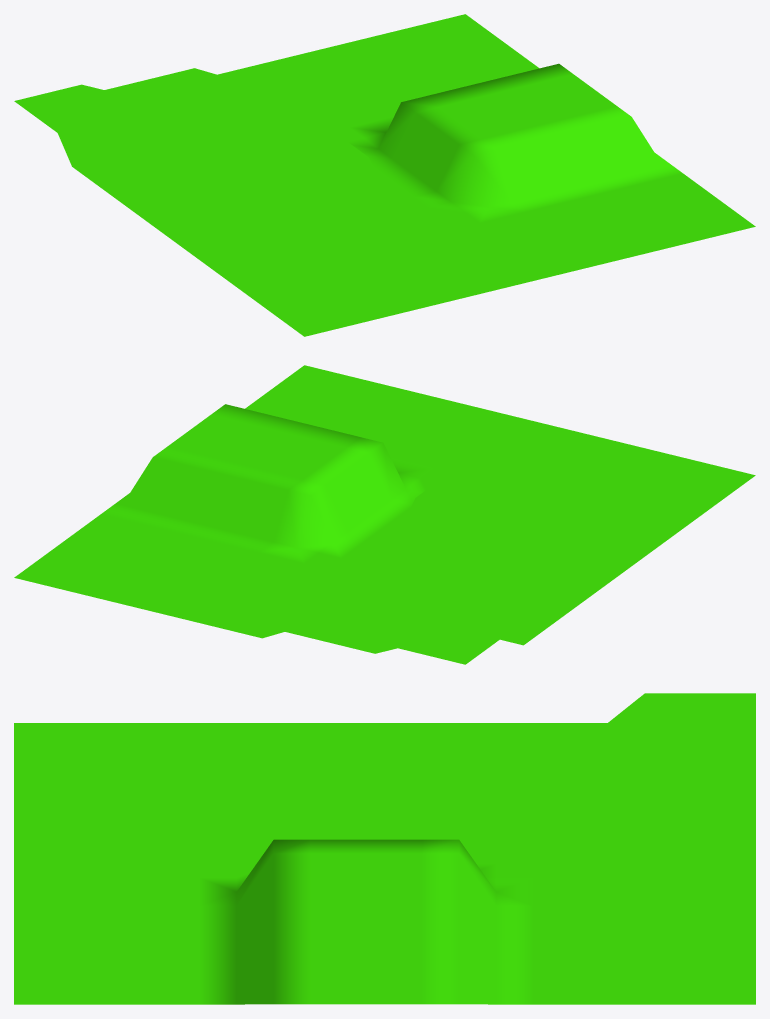
The model's file is ground.fbx.
3 views of the same model, one above another, from view 1: azimuth 30°, elevation 25°; view 2: azimuth 150°, elevation 25°; view 3: azimuth 270°, elevation 25° (orthographic). The views are drawn at different scales.
Visible parts, largest first — view 1: pPlane1; view 2: pPlane1; view 3: pPlane1.
Boxes of the visible parts, x1,y1,x2,y2 form: pPlane1: [14, 14, 755, 336]; pPlane1: [14, 365, 755, 664]; pPlane1: [14, 693, 755, 1004].
Size of the model in its own units: 182 by 19.44 by 203.
